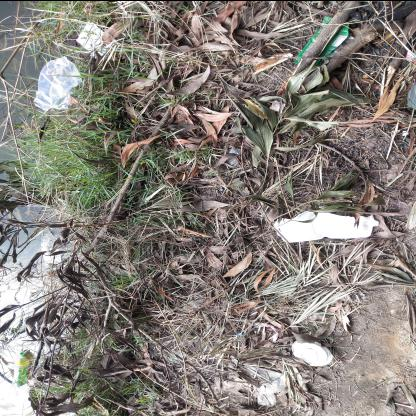plastik: (34, 55, 82, 109), (290, 339, 332, 366)
